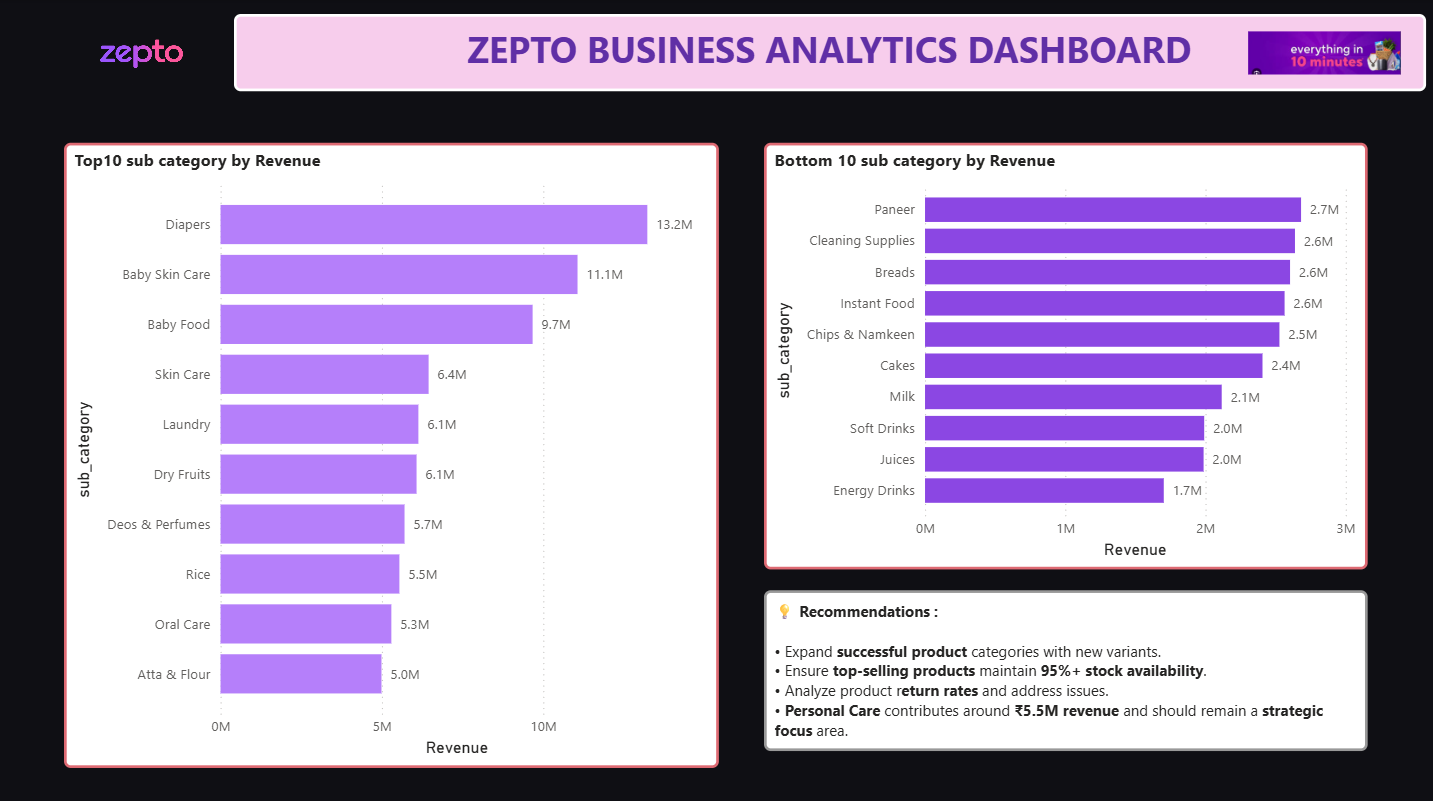

What the dashboard file says about the page in this screenshot:
{"tool":"powerbi","page":{"name":"Product Analysis","canvas":[1280,720],"ordinal":3},"visuals":[{"type":"textbox","box":[209.8,13.5,1061.4,68.7],"z":0},{"type":"image","box":[0,0,251,103],"z":1000},{"type":"clusteredBarChart","title":"Top10 sub category by Revenue  ","fields":{"Category":["product_Sheet.sub_category"],"Y":["customer_Sheet.Revenue"]},"box":[57.7,127.6,582.8,557.1],"z":2000},{"type":"clusteredBarChart","title":"Bottom 10 sub category by Revenue  ","fields":{"Category":["product_Sheet.sub_category"],"Y":["customer_Sheet.Revenue"]},"box":[681,127.6,537.4,380.4],"z":3000},{"type":"textbox","box":[681,526.4,537.4,143.6],"z":4000},{"type":"image","box":[1108,19.6,146,56.4],"z":5000}]}

Visuals, with their boxes in screenshot pixels (x1, y1, x2, y2), scaled from the page's 1280x720 canvas onto the 1433x801 screenshot:
textbox: Rect(235, 15, 1423, 91)
image: Rect(0, 0, 281, 115)
"Top10 sub category by Revenue  " clusteredBarChart: Rect(65, 142, 717, 762)
"Bottom 10 sub category by Revenue  " clusteredBarChart: Rect(762, 142, 1364, 565)
textbox: Rect(762, 586, 1364, 745)
image: Rect(1240, 22, 1404, 85)
